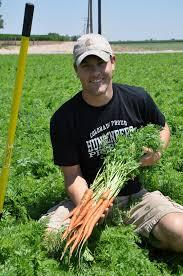Organic: (2, 1, 183, 269)
